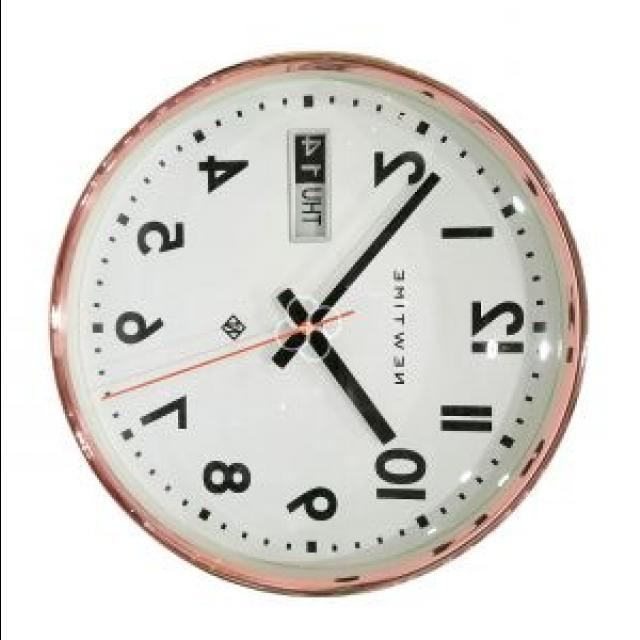clock: (44, 88, 570, 584)
